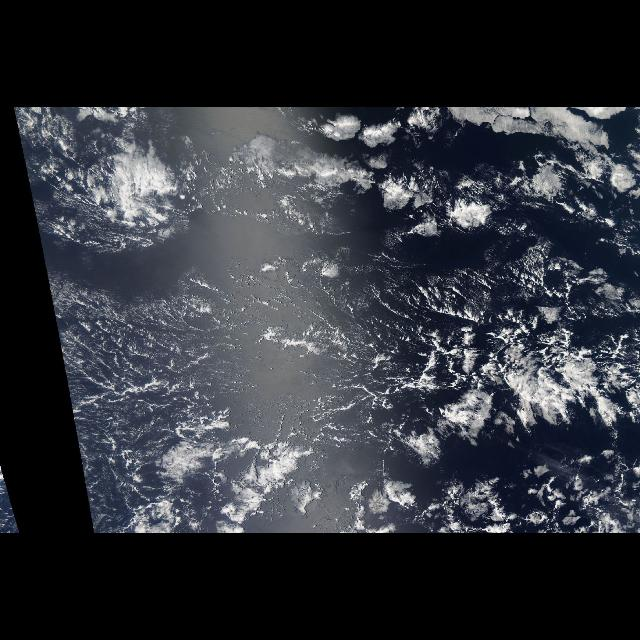Sugar: (46, 234, 404, 438)
